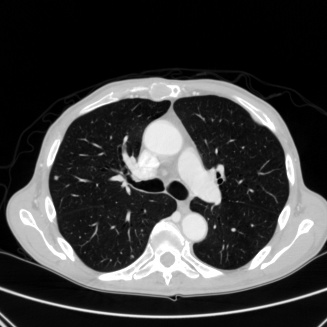PN: (54, 175, 58, 179)
